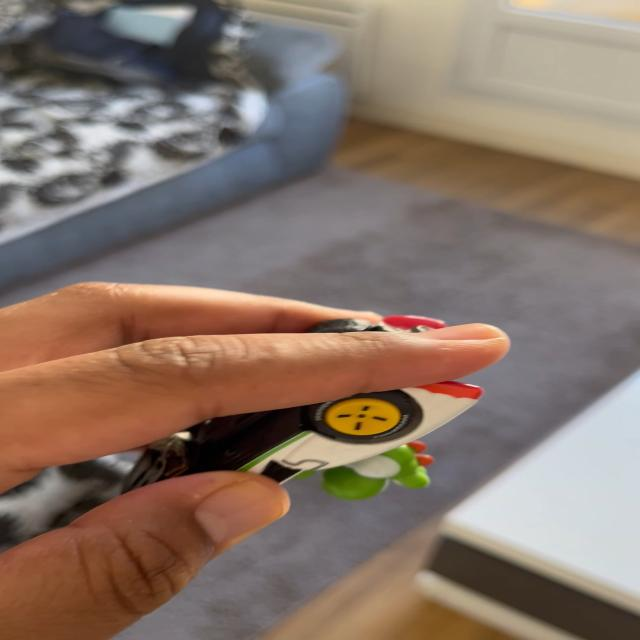yoshi: (205, 376, 455, 524)
